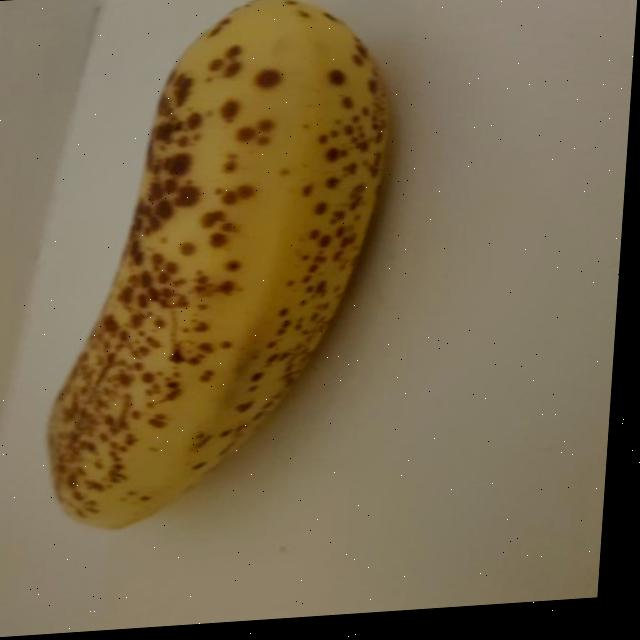banana: (31, 0, 394, 537)
